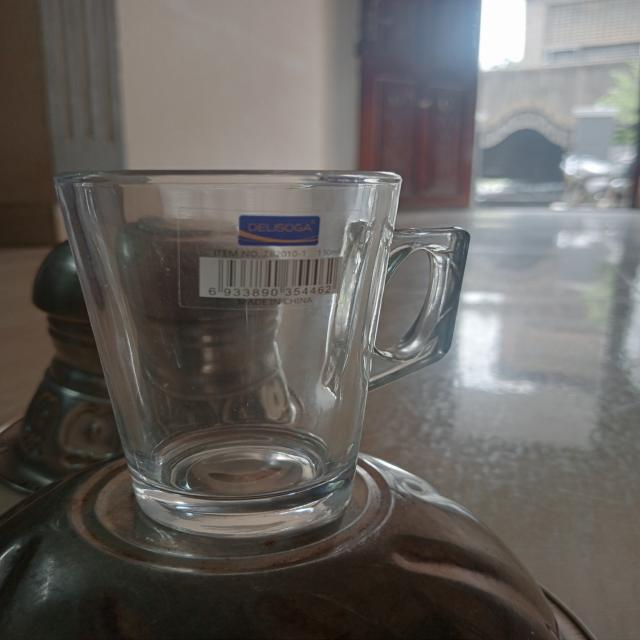glass-VX4N: (52, 171, 467, 559)
